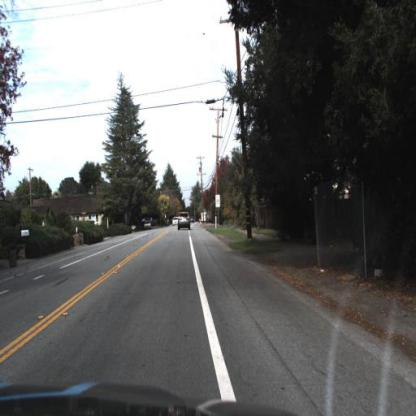car: (176, 209, 193, 237), (142, 216, 156, 237), (171, 214, 180, 230), (200, 208, 207, 224)
